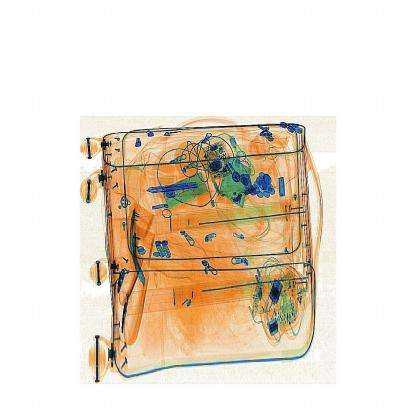pliers: (138, 174, 212, 202)
